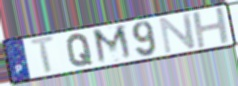9: (132, 18, 160, 58)
H: (190, 5, 233, 51)
M: (90, 23, 136, 67)
N: (157, 11, 198, 55)
Q: (65, 33, 95, 68)
T: (28, 34, 59, 76)
